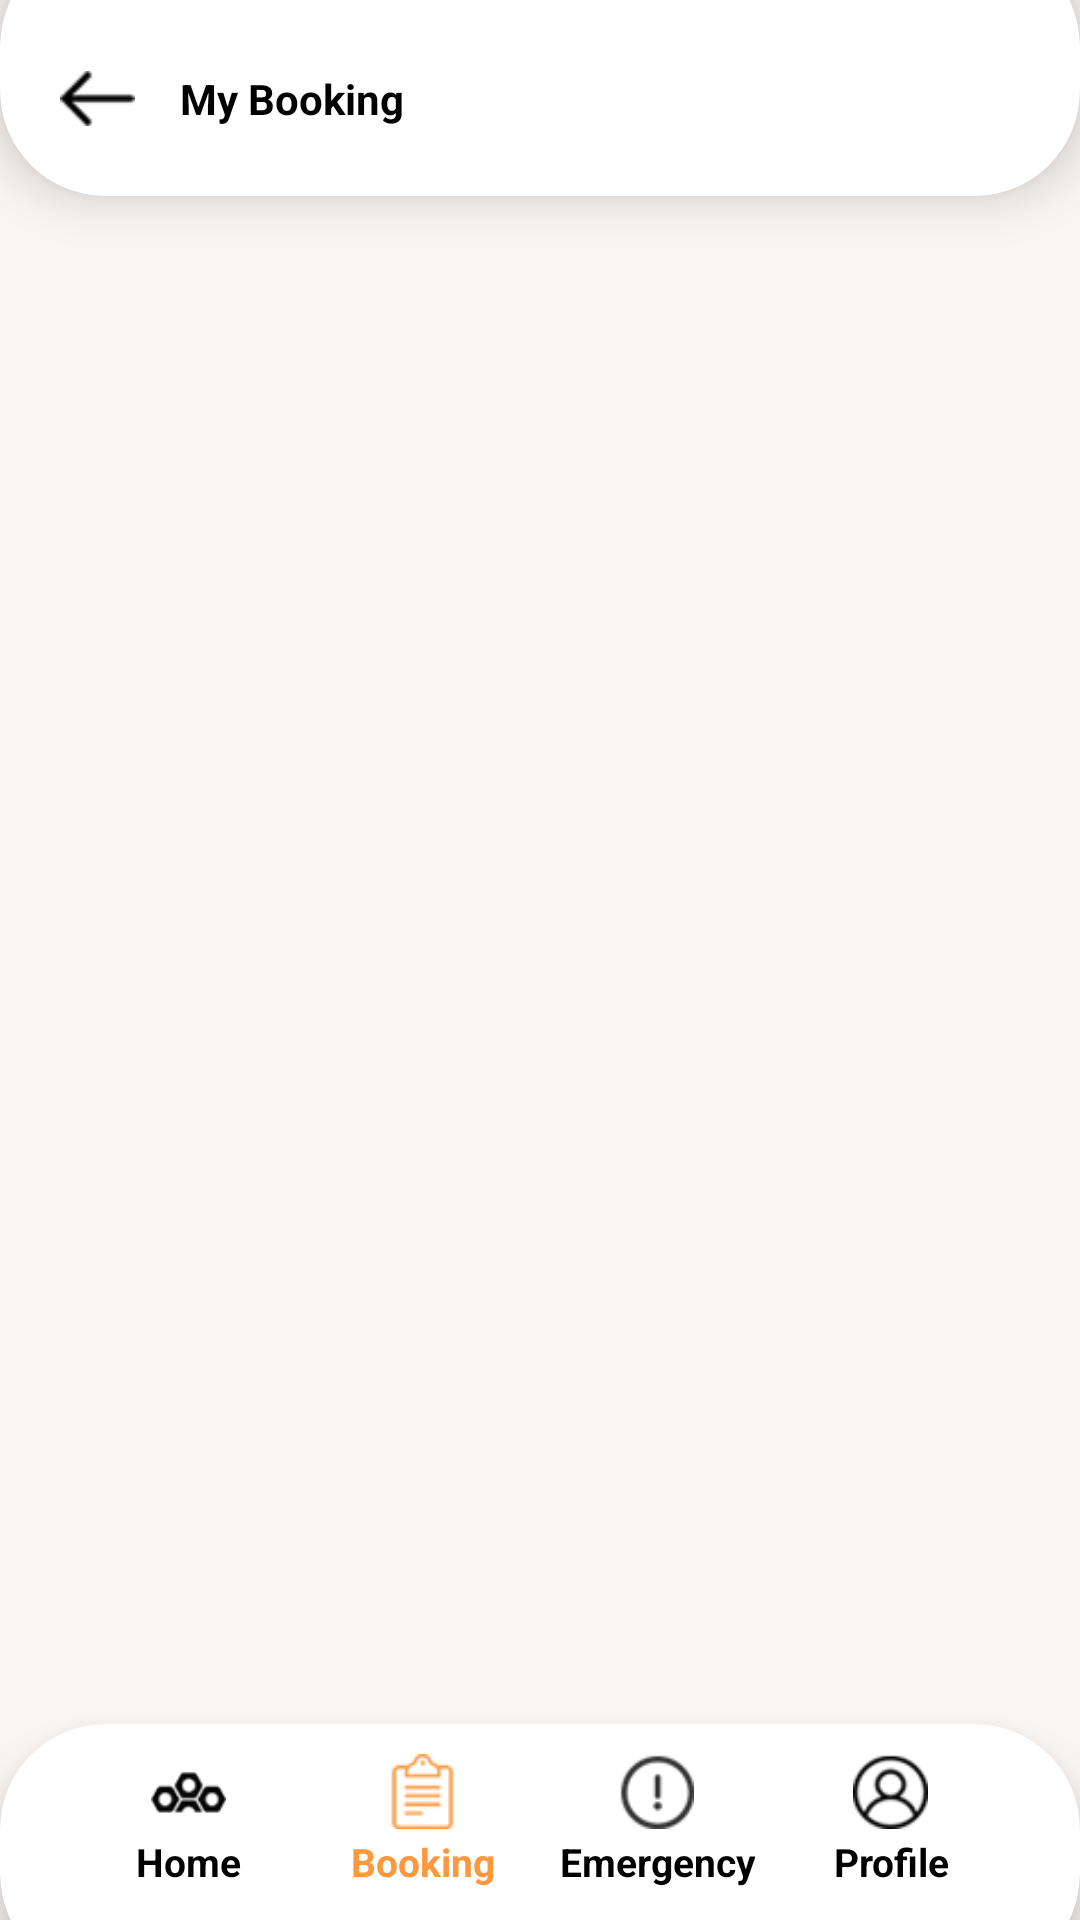

Screen size 1080px x 1920px. Icon name, then its center in pixels as point (x, y):
back: point (97, 98)
